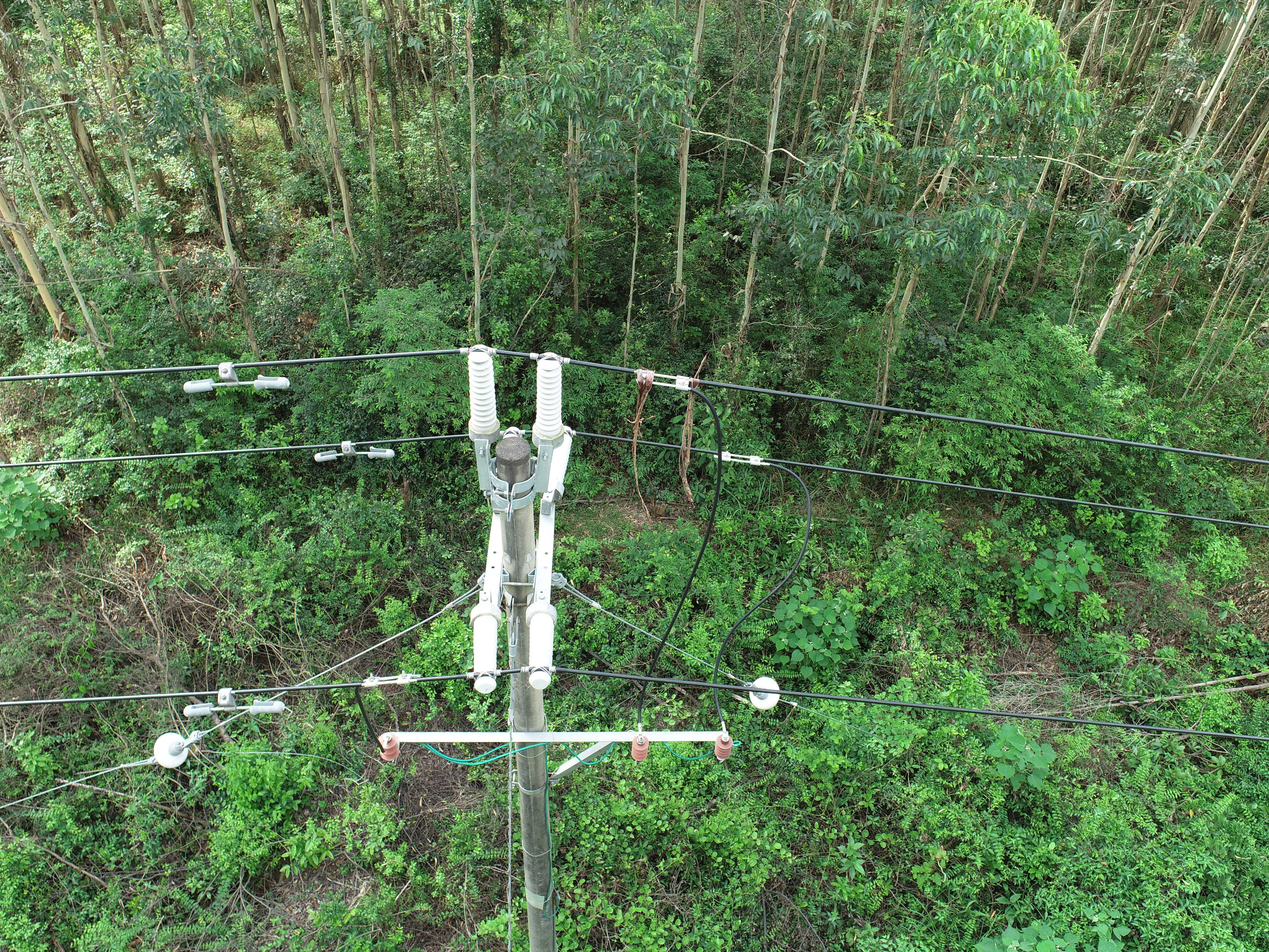异物: (678, 352, 710, 509), (627, 368, 656, 530), (540, 767, 558, 793)
